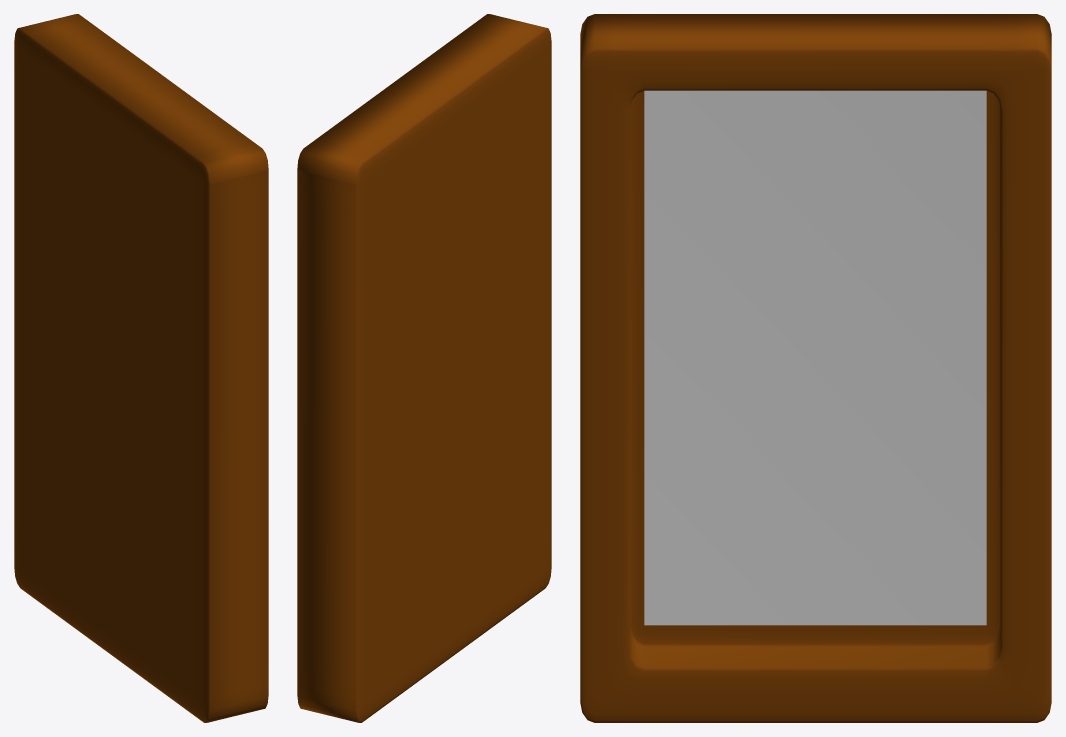
Rendered from Espejo.fbx.
3 renders of one model, left to right at view 1: azimuth 30°, elevation 25°; view 2: azimuth 150°, elevation 25°; view 3: azimuth 270°, elevation 25°, orthographic. The views are drawn at different scales.
Parts seen in each view (by area): view 1: Espejo; view 2: Espejo; view 3: Espejo.
Boxes of the visible parts, <box> form: Espejo: <box>14,14,268,722</box>; Espejo: <box>297,14,551,722</box>; Espejo: <box>580,14,1051,722</box>.
Size of the model in its own units: 128 by 1107 by 701.
